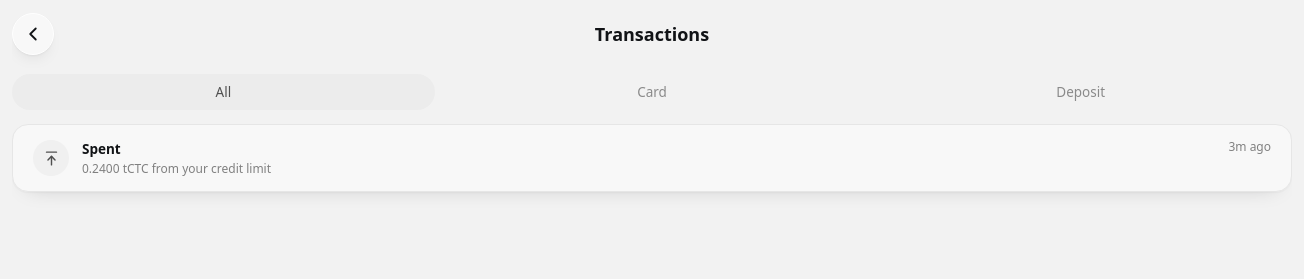
it: an empty filter explains itself instead of showing a blank card
Click the button "Deposit".
click(1081, 92)  # box [869, 74, 1292, 110]
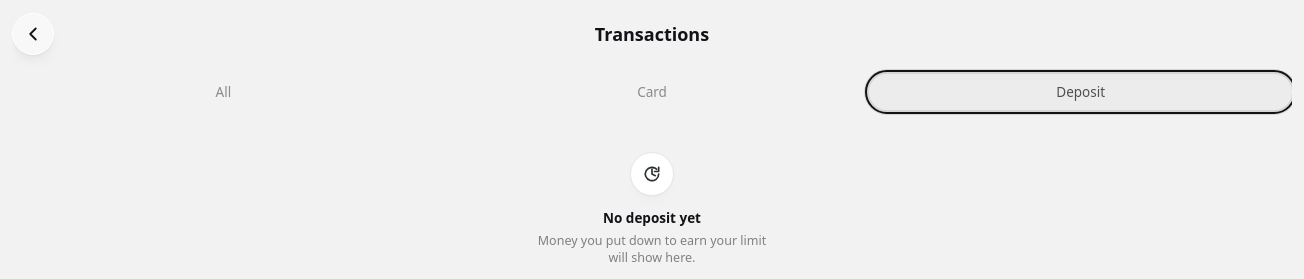
Result: the text "No deposit yet" is shown at [603, 208, 701, 228]
